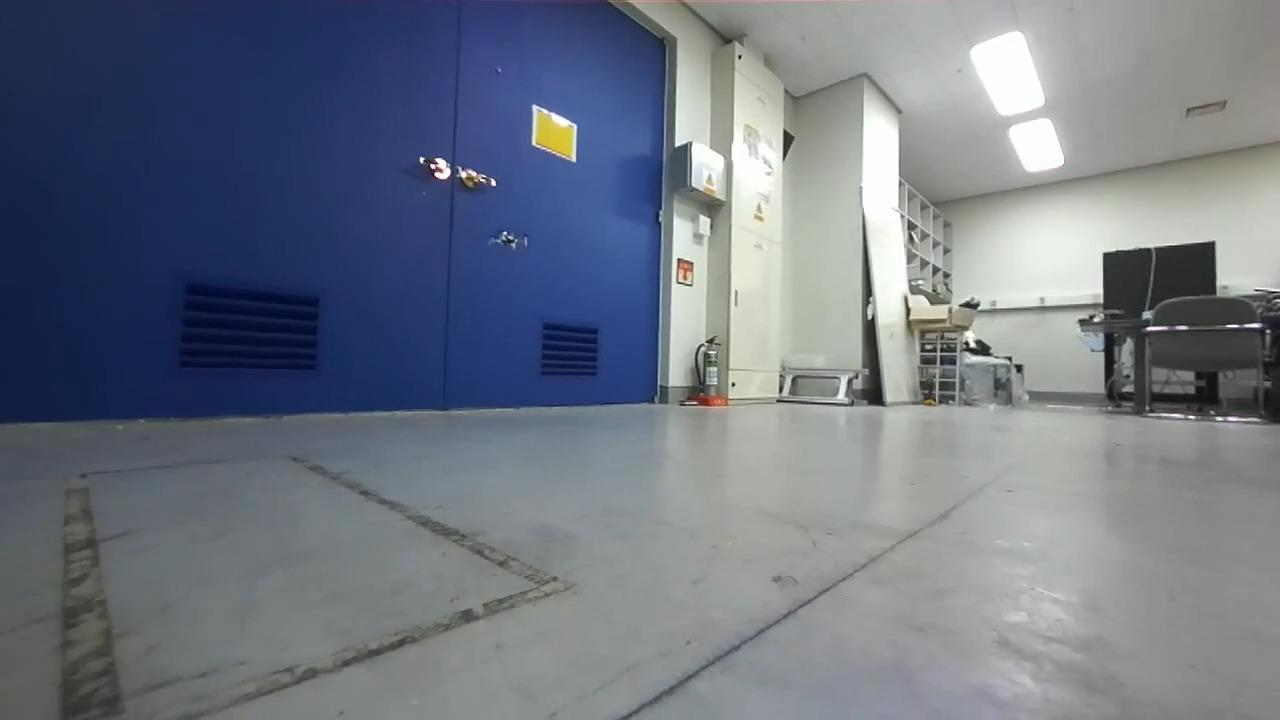crazyflie: (481, 225, 532, 255)
